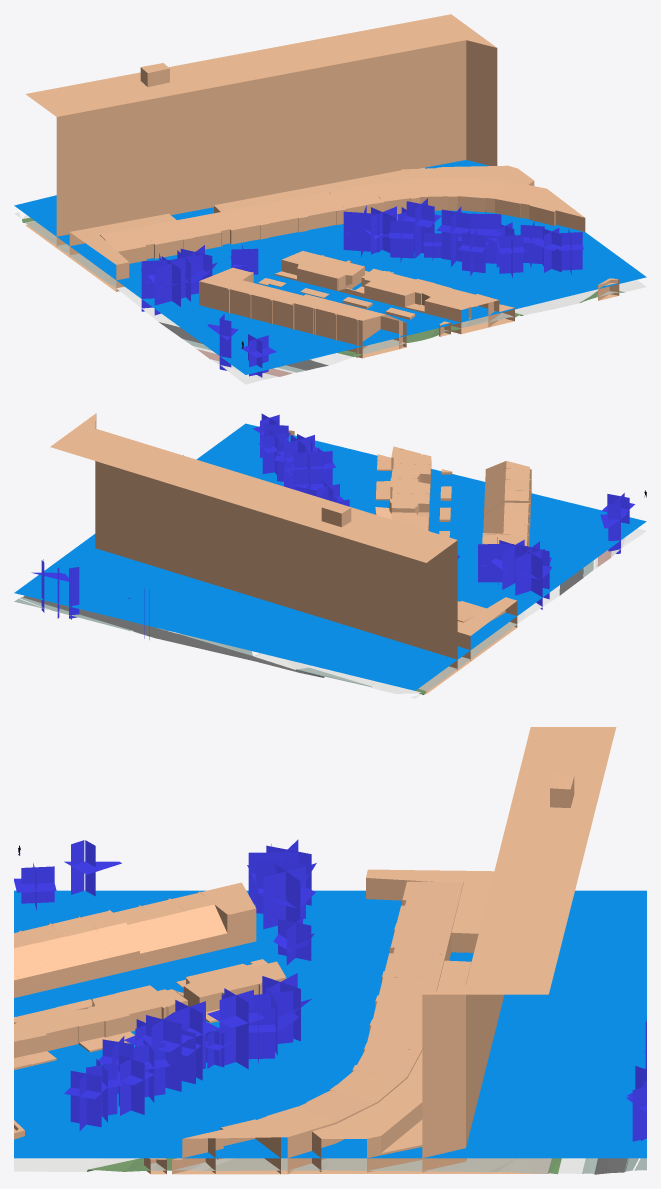
Rendered from florijn.glb.
3 renders of one model, top to bottom at view 1: azimuth 30°, elevation 25°; view 2: azimuth 150°, elevation 25°; view 3: azimuth 270°, elevation 25°, orthographic. The views are drawn at different scales.
Visible parts, largest first — view 1: Gebouwen, NAP0Plane, Bomen, Voetpaden, Onbegroeid, Erven; view 2: Gebouwen, NAP0Plane, Bomen, Wegen, Voetpaden, Parkeervakken, Onbegroeid; view 3: Gebouwen, NAP0Plane, Bomen, Onbegroeid, Voetpaden, Erven.
Boxes of the visible parts, x1,y1,x2,y2 form: Gebouwen: [25, 14, 619, 358]; NAP0Plane: [14, 160, 646, 374]; Bomen: [141, 198, 583, 377]; Voetpaden: [14, 212, 646, 384]; Onbegroeid: [25, 221, 618, 354]; Erven: [22, 217, 624, 356]; Gebouwen: [50, 413, 531, 694]; NAP0Plane: [14, 423, 646, 690]; Bomen: [31, 413, 634, 639]; Wegen: [23, 568, 583, 677]; Voetpaden: [130, 529, 646, 698]; Parkeervakken: [14, 560, 593, 687]; Onbegroeid: [418, 622, 517, 691]; Gebouwen: [14, 727, 616, 1174]; NAP0Plane: [14, 890, 646, 1158]; Bomen: [14, 839, 646, 1141]; Onbegroeid: [145, 1158, 551, 1173]; Voetpaden: [14, 1158, 585, 1173]; Erven: [87, 1158, 561, 1174].
Size of the model in its own units: 101 by 35.44 by 100.
11 materials, 1 textured.
